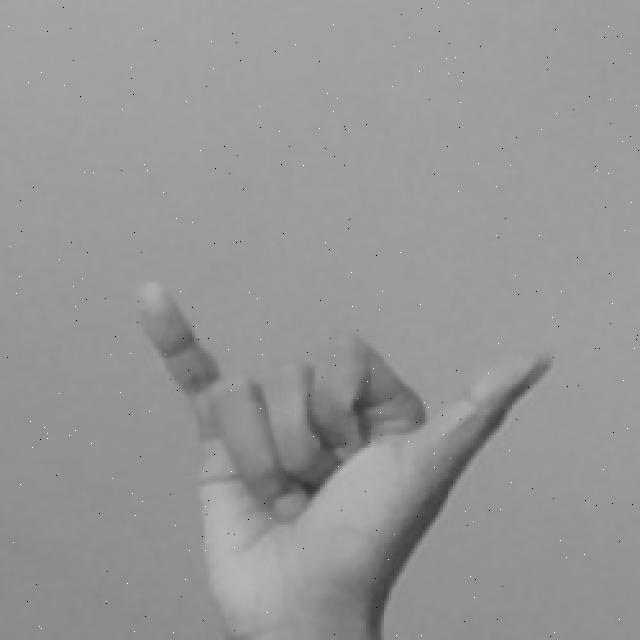Y: (129, 273, 557, 640)
